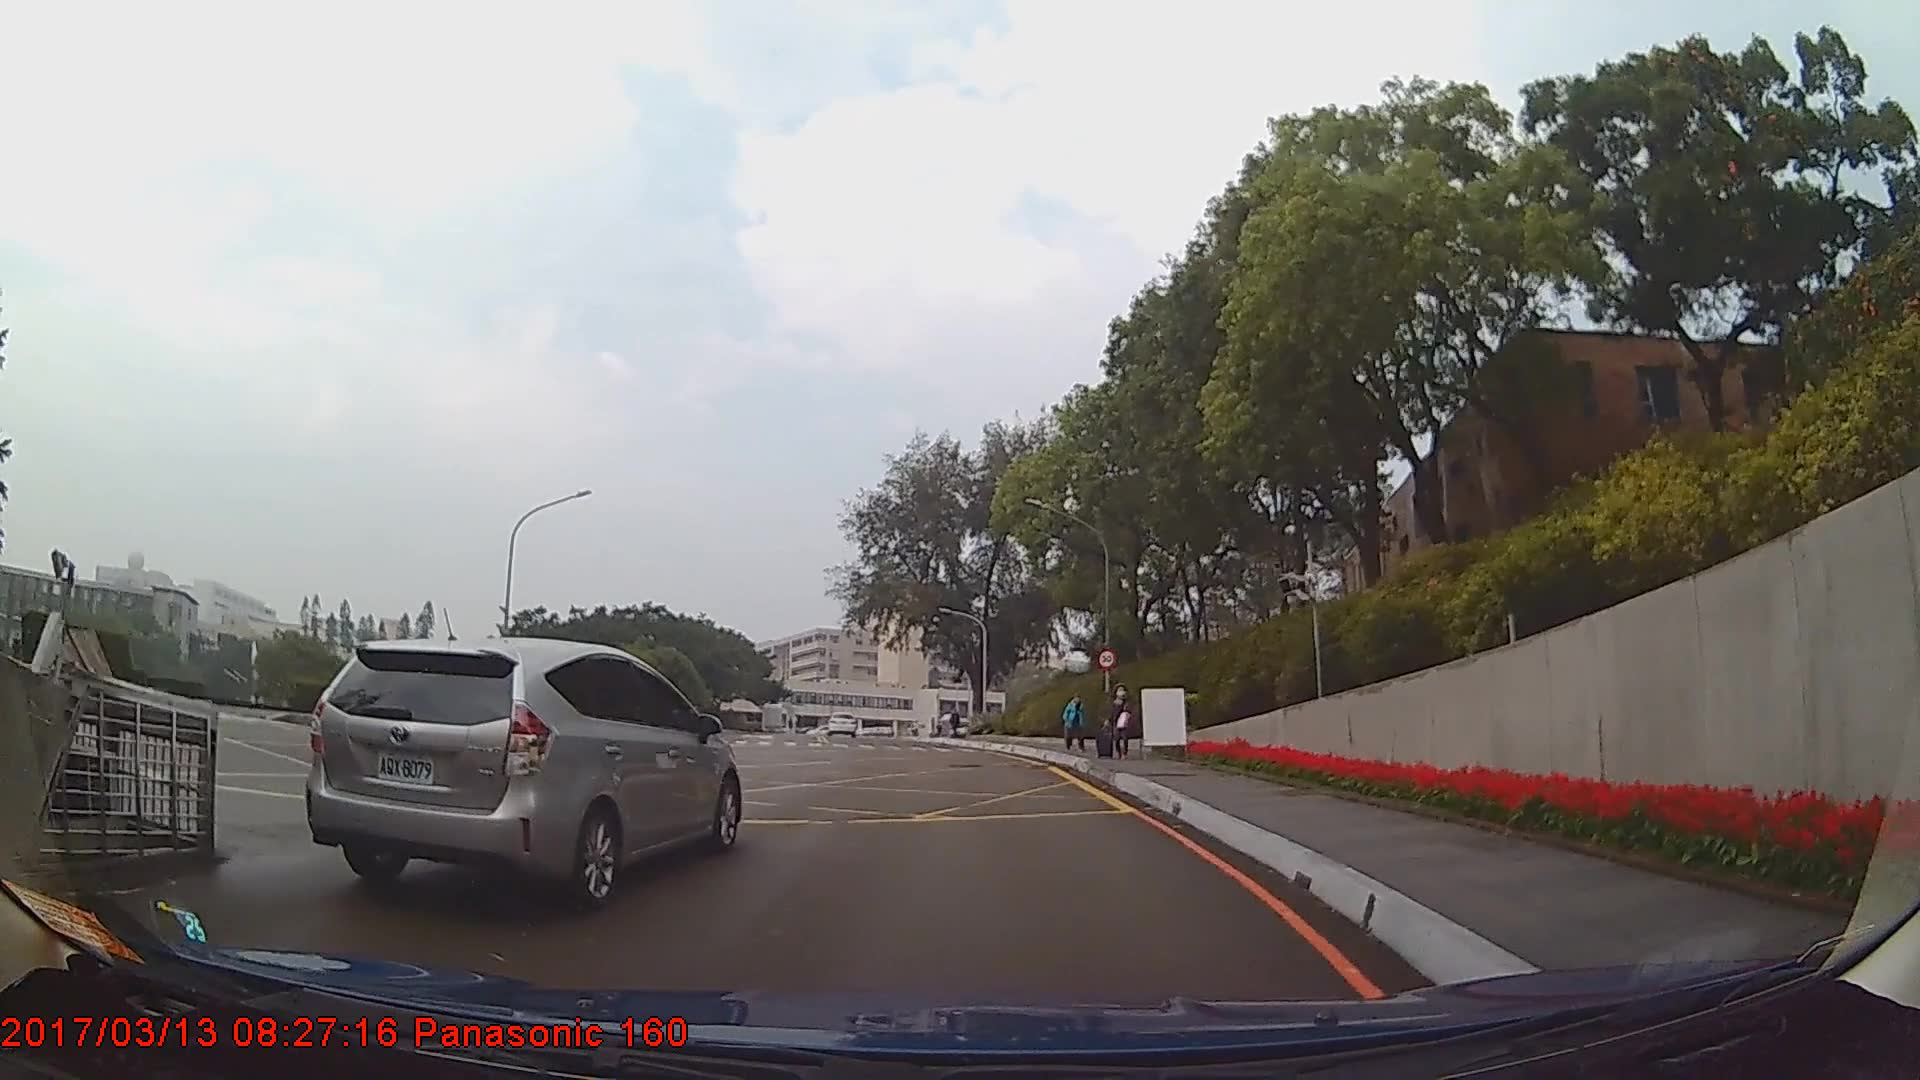pedestrian: (1097, 686, 1137, 761), (1061, 694, 1086, 753)
vehicle: (301, 635, 742, 910), (822, 709, 856, 736)
